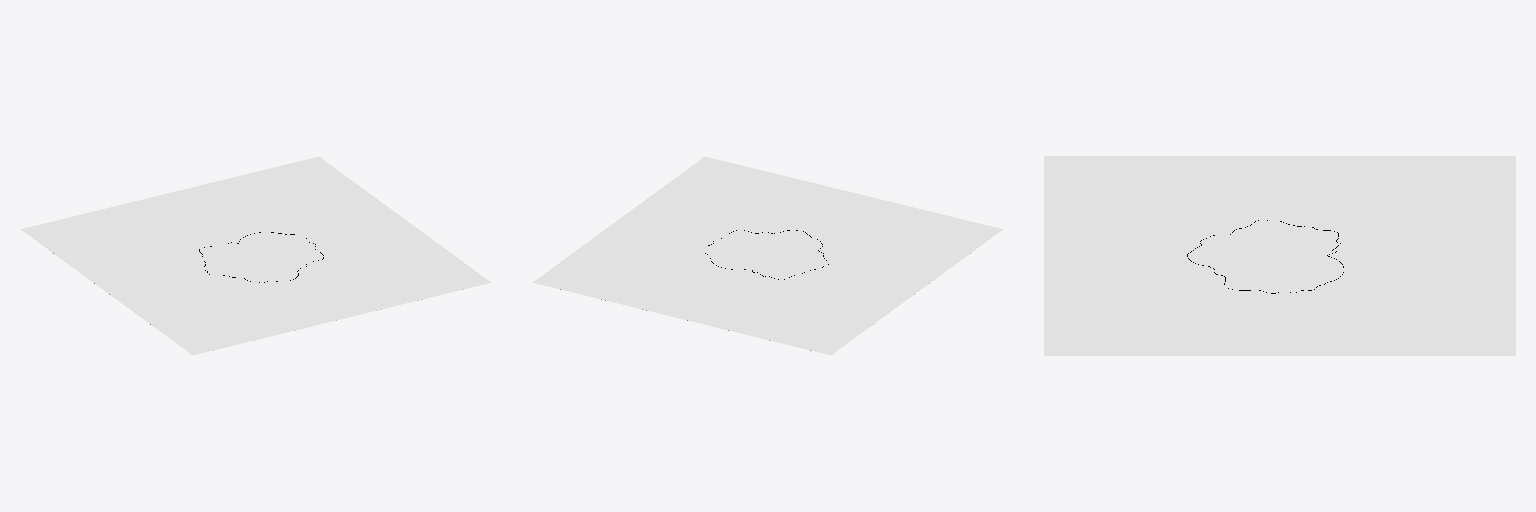
robot.urdf — world:
<?xml version="1.0"?> 
<robot name="world">
 
	<link name="plane">

   		<inertial>
		    <origin rpy="0 0 0" xyz="0 0 0"/>
            <mass value="0.0"/>
            <inertia ixx="0.0" ixy="0.0" ixz="0.0" iyy="0.0" iyz="0.0" izz="0.0"/>
        </inertial>

    	<visual>
      		<geometry>
        		<box size="10.0 10.0 0.001"/>
      		</geometry>

			<material name="plane_color">
        		<color rgba="1.0 1.0 1.0 1"/>
      		</material>
       	
			<origin rpy="0 0 0" xyz="0 0 0"/>
		</visual>

		<contact>
		 	<lateral_friction value="1"/>
			<stiffness value="300000"/>
          	<damping value="1000"/>
  		</contact>

  		<collision>
			<geometry>
        		<box size="10.0 10.0 0.01"/>
      		</geometry>
          <origin rpy="0 0 0" xyz="0 0 0"/>
        </collision>
  
	</link>


	<link name="line">

   		<inertial>
		    <origin rpy="0 0 0" xyz="0 0 0"/>
            <mass value="0.0"/>
            <inertia ixx="0.0" ixy="0.0" ixz="0.0" iyy="0.0" iyz="0.0" izz="0.0"/>
        </inertial>

    	<visual>
      		<geometry>
				<mesh filename="./models/track_plane_template.obj" scale="1 1 1"/>
      		</geometry>
       		
			<material name="line_color">
        		<color rgba="0 0 0 1"/>
      		</material>
	    
			<origin rpy="0 0 0" xyz="0 0 0.001"/>
		</visual>
    
	</link>


  	<joint name="plane_line" type="fixed">
		<parent link="plane"/>
		<child link="line"/>
        <origin rpy="0 0 0" xyz="0.0 0.0 0.0"/>
 	</joint>

</robot>

--- Render facts (derived) ---
The picture shows the robot from 3 angles, left to right: view 1: azimuth 30°, elevation 25°; view 2: azimuth 150°, elevation 25°; view 3: azimuth 270°, elevation 25°; orthographic projection.
Robot: world — 2 links, 1 joints (1 fixed); root link plane; default pose: every joint at zero.
Visible links, largest first — view 1: plane; view 2: plane; view 3: plane.
Link boxes in pixels (x1,y1,x2,y2): plane: (21, 157, 490, 354); plane: (533, 157, 1002, 354); plane: (1044, 156, 1515, 355).
Bounding box of the posed robot: 10 × 10 × 0.0015 m (x, y, z).
Meshes: 1 distinct files referenced, 1 mesh visuals loaded (1 OBJ).
